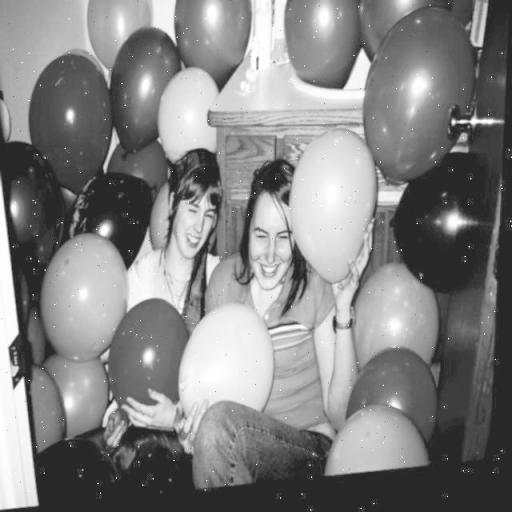balloon: (362, 15, 480, 195), (290, 144, 378, 292), (36, 429, 204, 505), (186, 306, 281, 433), (47, 232, 135, 366), (30, 53, 114, 189), (350, 352, 450, 462), (396, 158, 468, 308), (0, 135, 66, 298), (356, 268, 446, 382), (110, 308, 192, 422), (112, 30, 181, 158), (68, 178, 154, 276), (282, 0, 361, 98), (335, 411, 438, 483), (175, 0, 249, 97), (362, 0, 457, 72), (158, 69, 224, 167), (40, 351, 114, 435), (14, 364, 73, 454), (85, 0, 155, 69), (109, 138, 171, 209), (3, 237, 35, 337), (152, 186, 182, 259), (23, 300, 52, 366), (453, 0, 482, 30)
